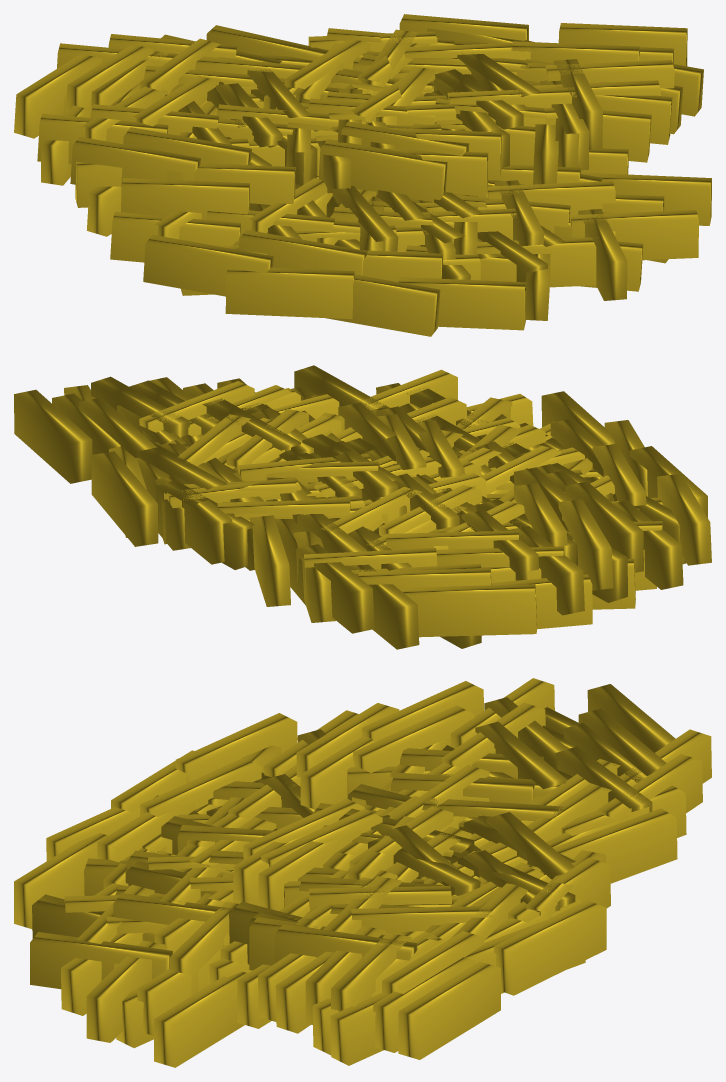
Rendered from GratedCheese.fbx.
3 renders of one model, top to bottom at view 1: azimuth 30°, elevation 25°; view 2: azimuth 150°, elevation 25°; view 3: azimuth 270°, elevation 25°, orthographic. The views are drawn at different scales.
Parts seen in each view (by area): view 1: Plane.052, Plane.157, Plane.202, Plane.082, Plane.022, Plane.187, Plane.089, Plane.127, Plane.162, Plane.112, Plane.084, Plane.126 (+91 smaller); view 2: Plane.126, Plane.039, Plane.034, Plane.178, Plane.157, Plane.127, Plane.169, Plane.022, Plane.133, Plane.162, Plane.132, Plane.148 (+73 smaller); view 3: Plane.034, Plane.039, Plane.084, Plane.169, Plane.080, Plane.082, Plane.157, Plane.089, Plane.172, Plane.035, Plane.037, Plane.178 (+83 smaller).
Part boxes in pixels (x1=…): Plane.052: x1=225, y1=267, x2=354, y2=319; Plane.157: x1=143, y1=235, x2=273, y2=296; Plane.202: x1=318, y1=139, x2=447, y2=202; Plane.082: x1=398, y1=277, x2=526, y2=330; Plane.022: x1=121, y1=178, x2=249, y2=219; Plane.187: x1=318, y1=268, x2=440, y2=336; Plane.089: x1=570, y1=210, x2=698, y2=260; Plane.127: x1=70, y1=136, x2=200, y2=186; Plane.162: x1=110, y1=211, x2=240, y2=262; Plane.112: x1=238, y1=229, x2=367, y2=275; Plane.084: x1=585, y1=172, x2=711, y2=225; Plane.126: x1=14, y1=55, x2=102, y2=138; Plane.126: x1=403, y1=584, x2=537, y2=637; Plane.039: x1=14, y1=389, x2=92, y2=483; Plane.034: x1=91, y1=451, x2=158, y2=546; Plane.178: x1=296, y1=544, x2=374, y2=633; Plane.157: x1=657, y1=473, x2=711, y2=565; Plane.127: x1=558, y1=499, x2=613, y2=590; Plane.169: x1=249, y1=515, x2=290, y2=606; Plane.022: x1=565, y1=481, x2=643, y2=572; Plane.133: x1=345, y1=564, x2=419, y2=649; Plane.162: x1=612, y1=500, x2=683, y2=589; Plane.132: x1=509, y1=526, x2=584, y2=615; Plane.148: x1=155, y1=475, x2=232, y2=564; Plane.034: x1=494, y1=900, x2=606, y2=995; Plane.039: x1=398, y1=961, x2=500, y2=1059; Plane.084: x1=154, y1=971, x2=247, y2=1067; Plane.169: x1=553, y1=808, x2=677, y2=883; Plane.080: x1=30, y1=932, x2=172, y2=989; Plane.082: x1=14, y1=833, x2=107, y2=928; Plane.157: x1=175, y1=713, x2=297, y2=782; Plane.089: x1=86, y1=940, x2=166, y2=1042; Plane.172: x1=353, y1=705, x2=474, y2=772; Plane.035: x1=274, y1=924, x2=417, y2=963; Plane.037: x1=258, y1=830, x2=361, y2=910; Plane.178: x1=598, y1=754, x2=702, y2=823.
Size of the model in its own units: 162 by 28.52 by 144.
